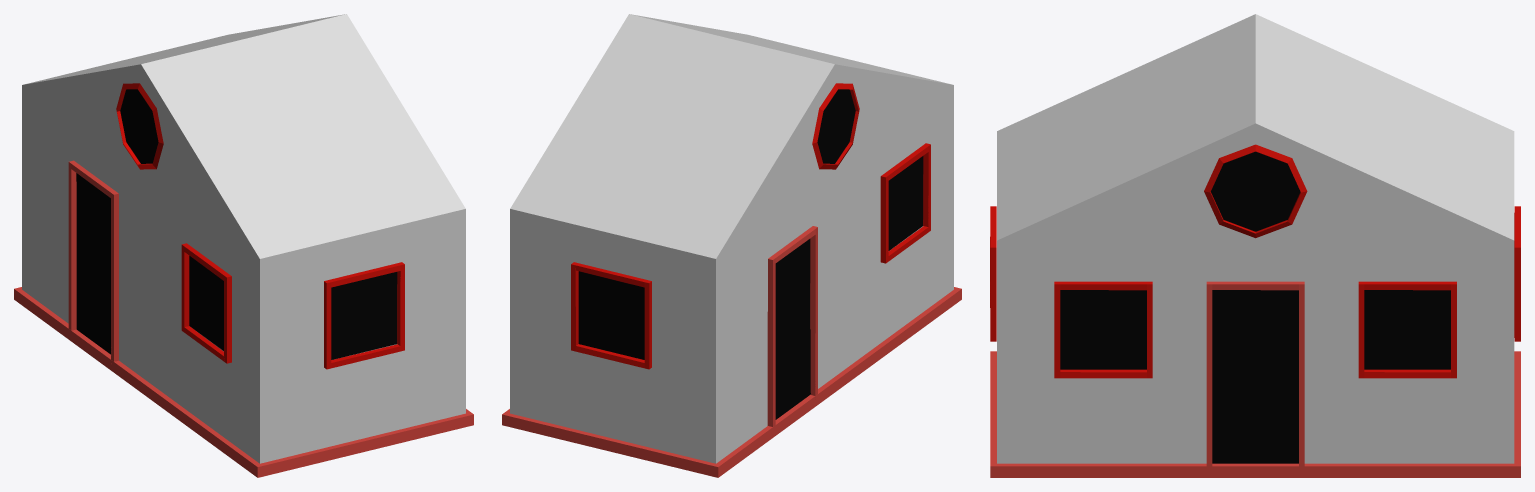
File: largehouse.glb
3 renders of one model, left to right at view 1: azimuth 30°, elevation 25°; view 2: azimuth 150°, elevation 25°; view 3: azimuth 270°, elevation 25°, orthographic. The views are drawn at different scales.
Visible parts, largest first — view 1: Cube.002, Cube.001, Cube.010, Cube.009, Cube.004, Cube.007, Torus.001; view 2: Cube.002, Cube.001, Cube.010, Cube.009, Cube.003, Cube.007, Torus.001; view 3: Cube.002, Cube.001, Cube.010, Cube.008, Cube.005, Cube.006, Torus.002, Cube.003, Cube.004.
Boxes of the visible parts, box(x1,y1,x2,y2) form: Cube.002: box(22, 85, 465, 463); Cube.001: box(22, 14, 465, 258); Cube.010: box(14, 287, 473, 477); Cube.009: box(68, 160, 118, 366); Cube.004: box(324, 262, 404, 369); Cube.007: box(181, 243, 231, 363); Torus.001: box(116, 83, 163, 169); Cube.002: box(510, 85, 953, 463); Cube.001: box(510, 14, 953, 258); Cube.010: box(502, 287, 961, 477); Cube.009: box(767, 226, 817, 426); Cube.003: box(571, 262, 651, 369); Cube.007: box(880, 143, 930, 263); Torus.001: box(812, 83, 859, 169); Cube.002: box(997, 240, 1514, 463); Cube.001: box(997, 14, 1514, 240); Cube.010: box(990, 351, 1520, 477); Cube.008: box(1206, 281, 1304, 477); Cube.005: box(1054, 281, 1152, 378); Cube.006: box(1358, 281, 1456, 378); Torus.002: box(1204, 144, 1307, 238); Cube.003: box(1514, 206, 1520, 341); Cube.004: box(990, 206, 996, 341).
Size of the model in its own units: 2.1 by 3 by 4.1.
